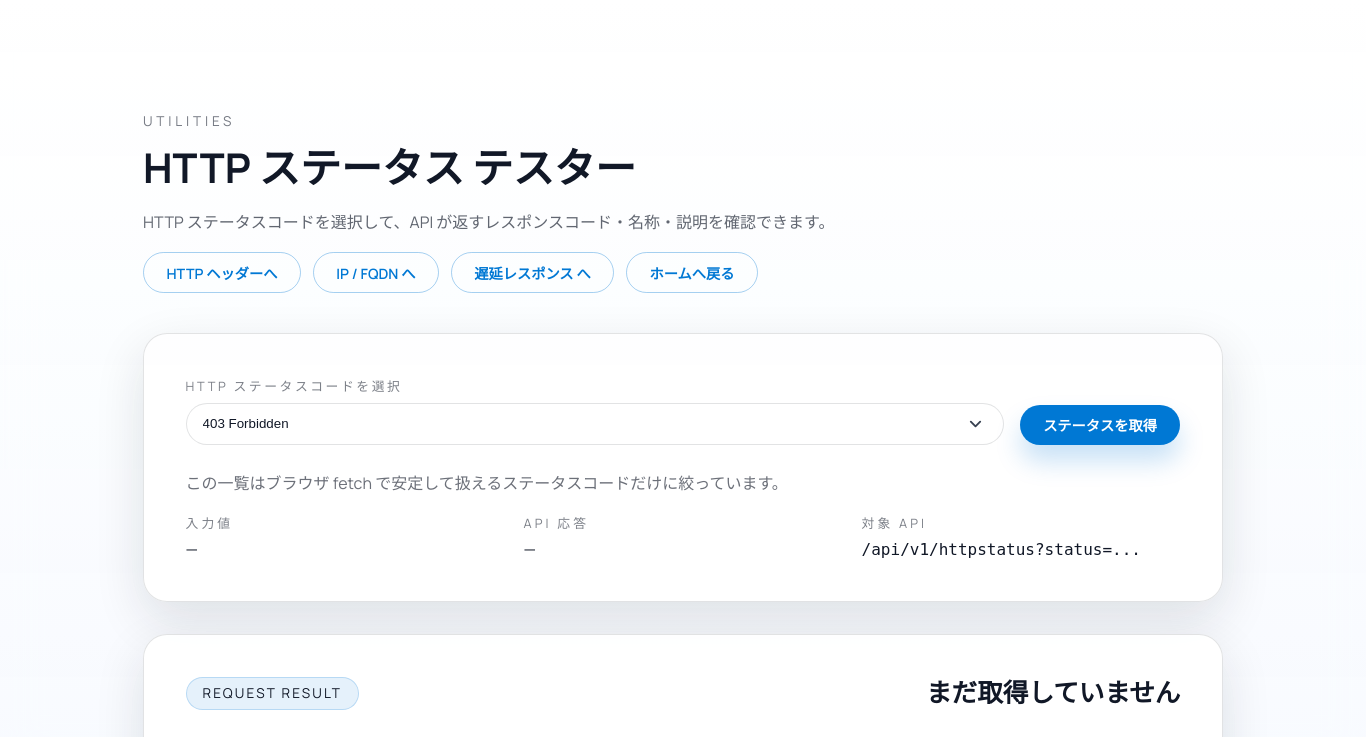
Test: Utility pages › HttpStatusPage fetches and displays a requested status payload
The width and height of the screenshot is (1366, 737).
Select "404 Not Found" in the dropdown labelled "HTTP ステータスコードを選択" at (595, 424), box [186,403,1004,445]
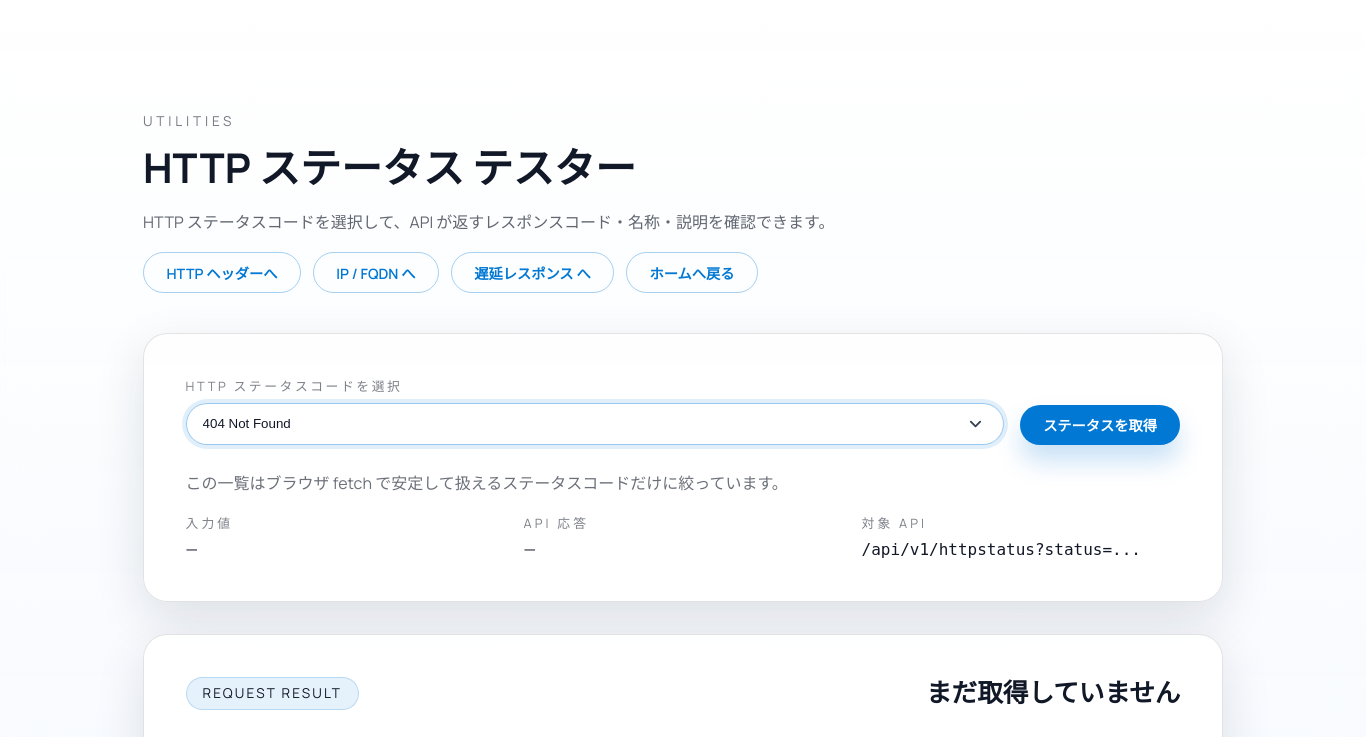
Click the button "ステータスを取得".
click(1100, 425)  # box [1020,405,1180,445]
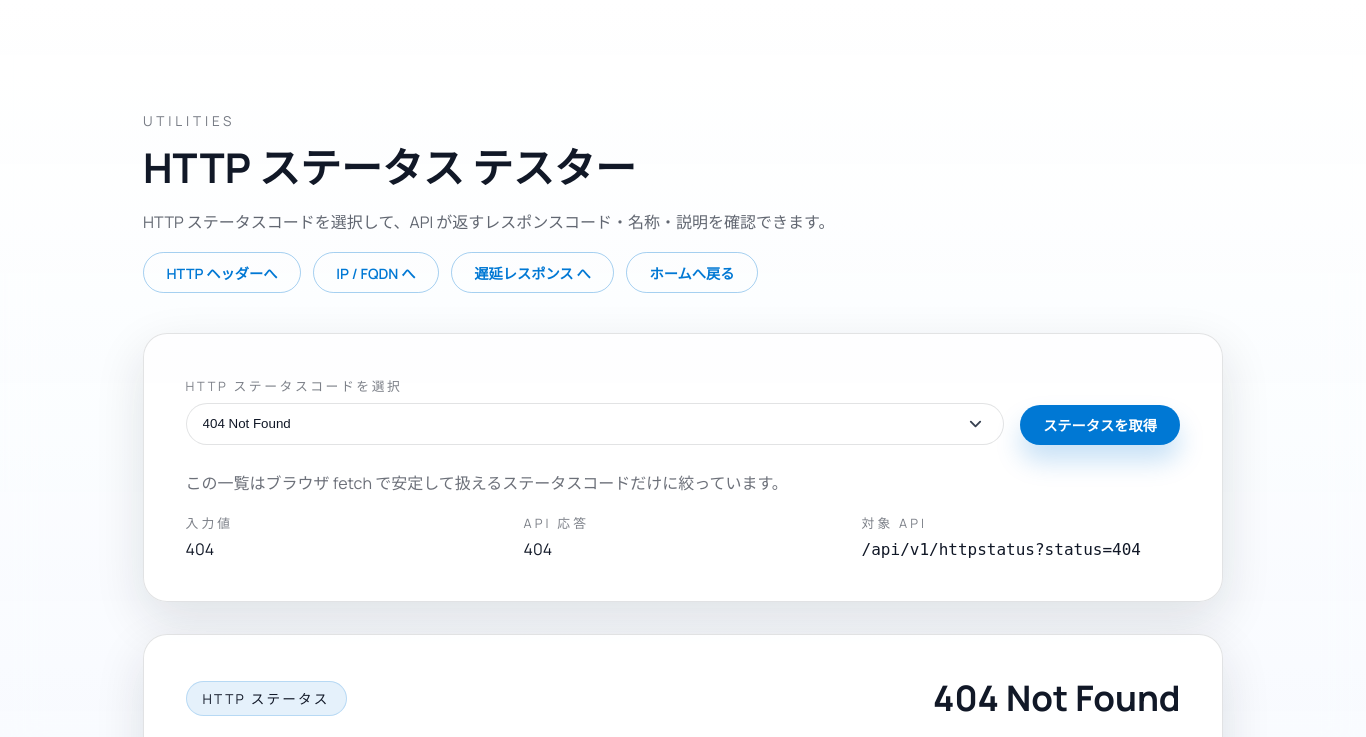
Expected: the heading "404 Not Found" is shown, [933,677,1180,719]
Expected: the text "404" below "入力値" is shown, [186,538,214,560]
